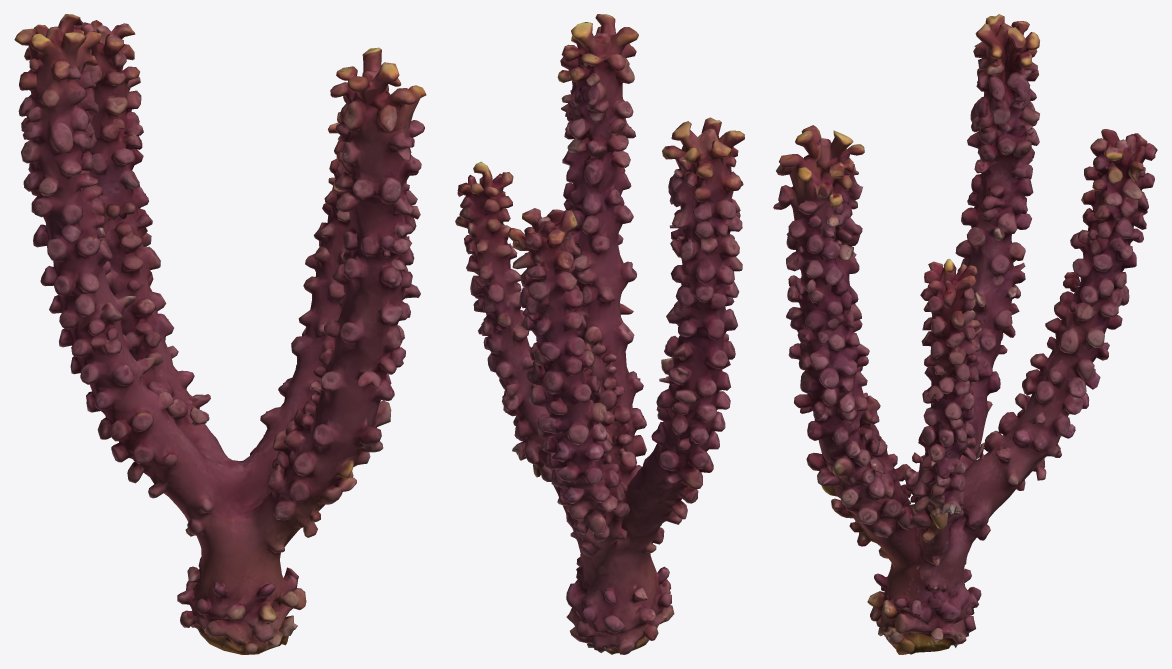
Rendered from sea_rod.glb.
The picture shows the model from 3 angles, left to right: view 1: azimuth 30°, elevation 25°; view 2: azimuth 150°, elevation 25°; view 3: azimuth 270°, elevation 25°; orthographic projection. The views are drawn at different scales.
Visible parts, largest first — view 1: tripo_node_bfac8dba-ffd2-4a68-aaa2-a7a5ed490bf9; view 2: tripo_node_bfac8dba-ffd2-4a68-aaa2-a7a5ed490bf9; view 3: tripo_node_bfac8dba-ffd2-4a68-aaa2-a7a5ed490bf9.
Boxes of the visible parts, <box> form: tripo_node_bfac8dba-ffd2-4a68-aaa2-a7a5ed490bf9: <box>14,14,426,654</box>; tripo_node_bfac8dba-ffd2-4a68-aaa2-a7a5ed490bf9: <box>455,14,744,654</box>; tripo_node_bfac8dba-ffd2-4a68-aaa2-a7a5ed490bf9: <box>773,14,1157,654</box>.
Size of the model in its own units: 0.5603 by 1 by 0.619.
Materials: 1 (1 with a texture image).
